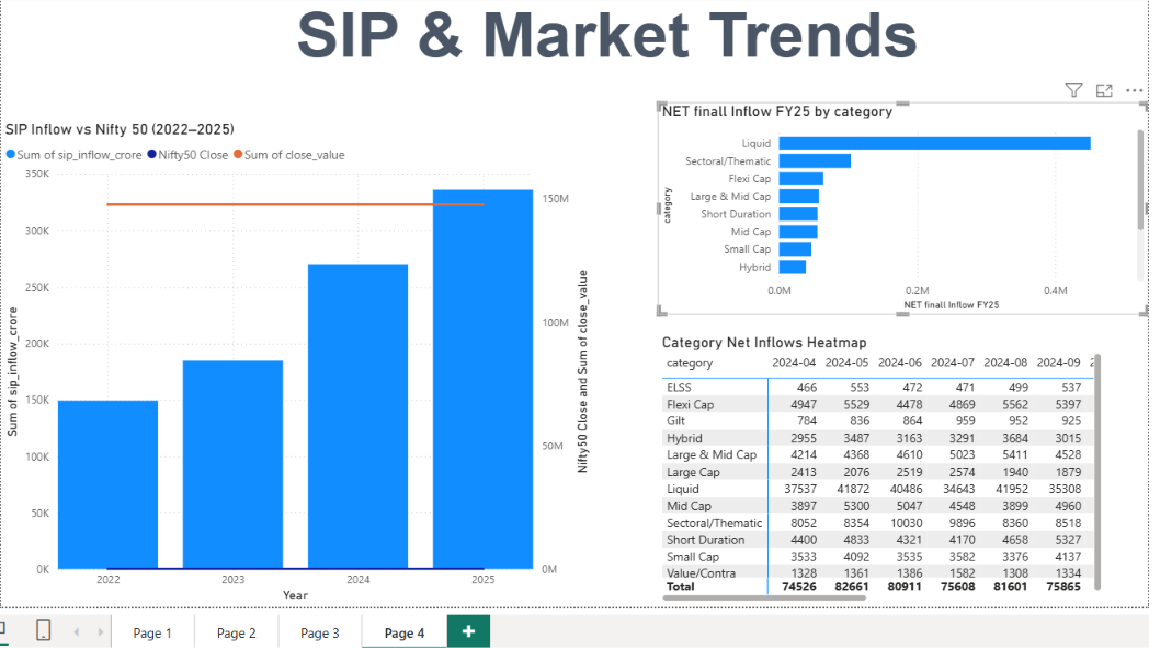

The page's visual inventory and layout, read from the dashboard file:
{"tool":"powerbi","page":{"name":"Page 4","canvas":[1280,720],"ordinal":3},"visuals":[{"type":"textbox","box":[324.1,0,719,103.9],"z":0},{"type":"lineStackedColumnComboChart","title":"SIP Inflow vs Nifty 50 (2022–2025)","fields":{"Category":["04_monthly_sip_inflows.month.Variation.Date Hierarchy.Year","04_monthly_sip_inflows.month.Variation.Date Hierarchy.Quarter","04_monthly_sip_inflows.month.Variation.Date Hierarchy.Month","04_monthly_sip_inflows.month.Variation.Date Hierarchy.Day"],"Y":["Sum(04_monthly_sip_inflows.sip_inflow_crore)"],"Y2":["01_fund_master.Nifty50 Close","Sum(10_benchmark_indices.close_value)"]},"box":[0,146.7,661.6,573.5],"z":1000},{"type":"pivotTable","title":"Category Net Inflows Heatmap","fields":{"Rows":["05_category_inflows.category"],"Columns":["05_category_inflows.month.Variation.Date Hierarchy.Year"],"Values":["Sum(05_category_inflows.net_inflow_crore)"]},"box":[732.5,397.4,500.1,322.8],"z":2000},{"type":"clusteredBarChart","fields":{"Y":["01_fund_master.NET FF Inflow FY25"],"Category":["05_category_inflows.month"]},"box":[732.5,124.7,547.8,250.7],"z":3000}]}

Visuals, with their boxes on the page's 1280x720 design canvas (x1, y1, x2, y2). These are canvas units, not pixel positions in the 1152x648 screenshot, which may show the page scaled, cropped or inside an application window:
textbox: <box>324,0,1043,104</box>
"SIP Inflow vs Nifty 50 (2022–2025)" lineStackedColumnComboChart: <box>0,147,662,720</box>
"Category Net Inflows Heatmap" pivotTable: <box>732,397,1233,720</box>
clusteredBarChart - 01_fund_master.NET FF Inflow FY25 x 05_category_inflows.month: <box>732,125,1280,375</box>
